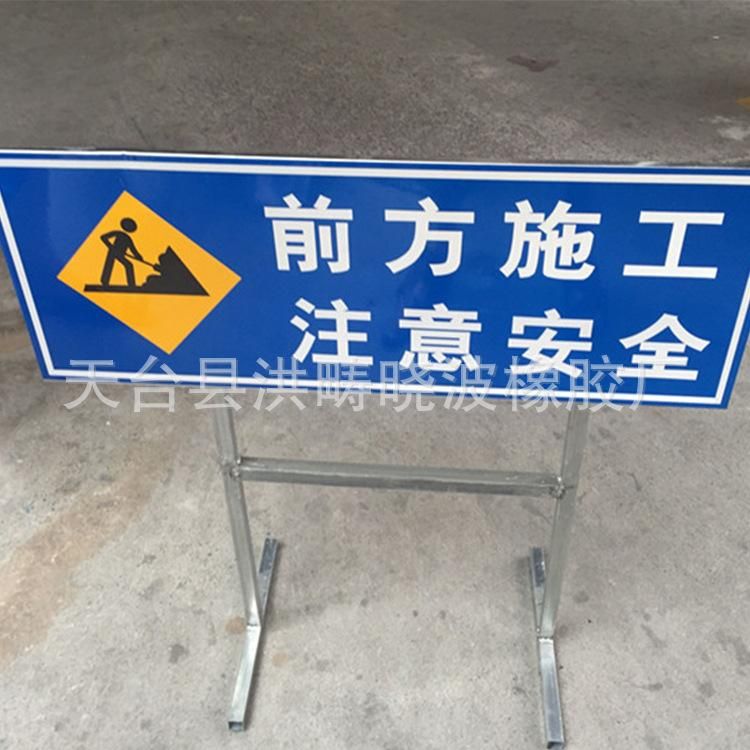sign: (8, 162, 736, 400)
